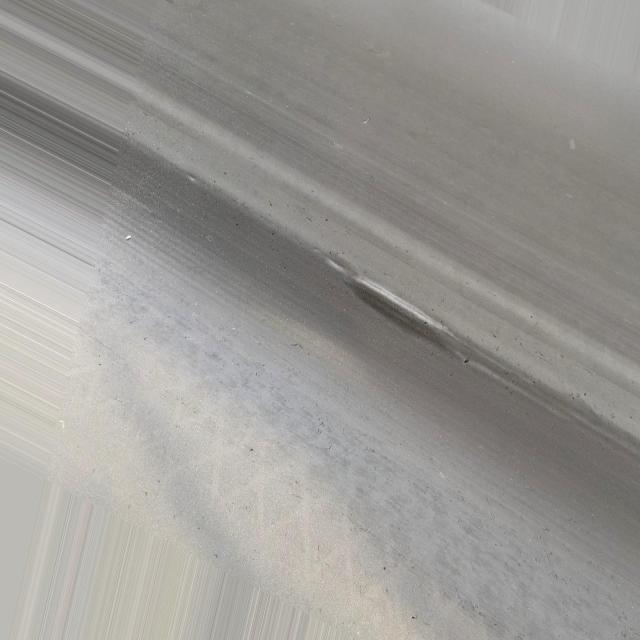impact damage: (332, 270, 471, 371)
